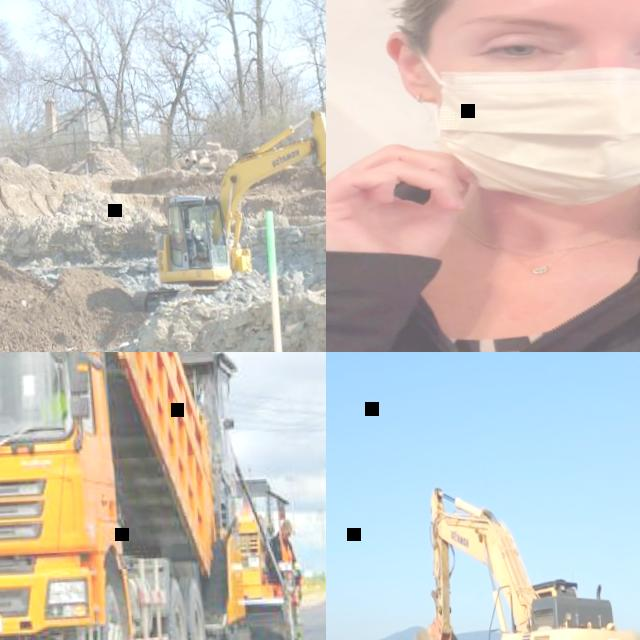Mask: (438, 48, 640, 200)
NO-Safety Vest: (326, 182, 640, 352)
Person: (326, 0, 640, 352), (258, 513, 301, 597), (34, 371, 68, 424)
Safety Vest: (36, 388, 69, 423), (277, 530, 296, 577)
vehicle: (0, 352, 234, 640), (115, 101, 326, 311), (400, 467, 640, 640)
